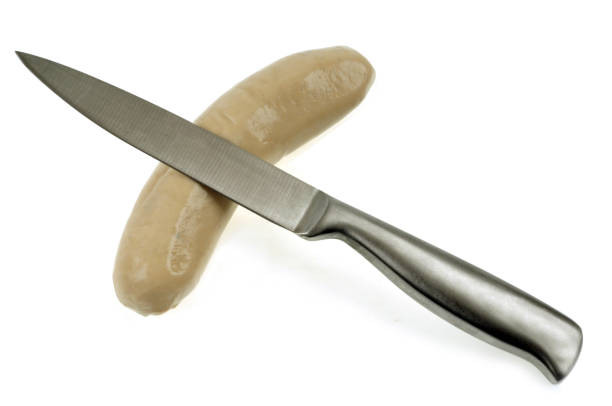knife: (11, 49, 588, 387)
